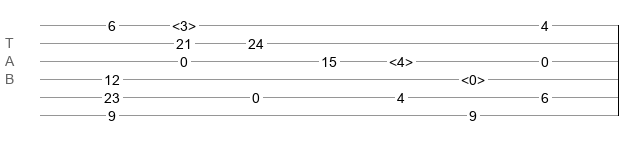0: (180, 54, 188, 64), (252, 90, 260, 100), (541, 54, 549, 64)
12: (104, 72, 120, 82)
15: (321, 54, 337, 64)
21: (176, 36, 192, 46)
23: (104, 90, 120, 100)
24: (248, 36, 264, 46)
4: (397, 90, 405, 100), (541, 18, 549, 28)
6: (108, 18, 116, 28), (541, 90, 549, 100)
9: (108, 108, 116, 118), (469, 108, 477, 118)
harmonic: (172, 18, 196, 28), (389, 54, 413, 64), (461, 72, 485, 82)
